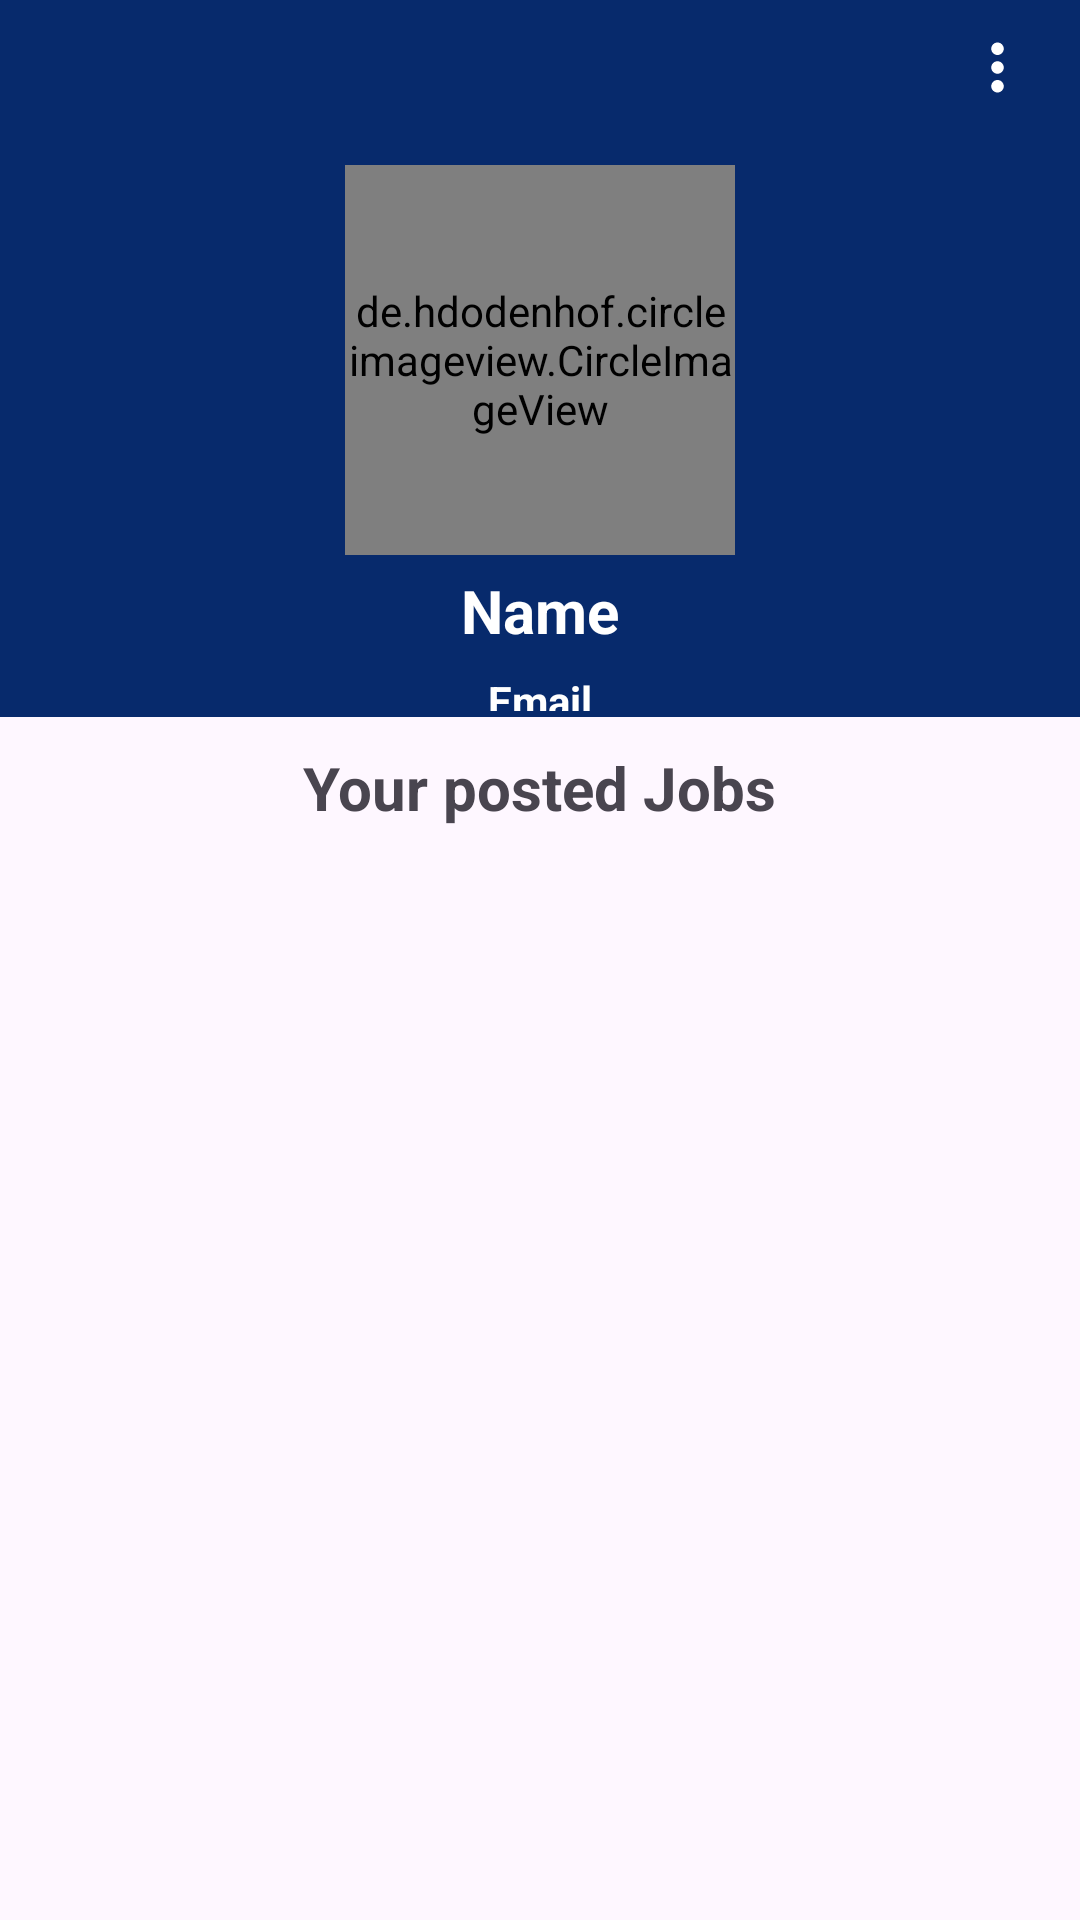

Icon bounding boxes for this 1080×1920 phone screenshot, format (x1, y1, x2, y2):
more vert: (991, 42, 1004, 93)
